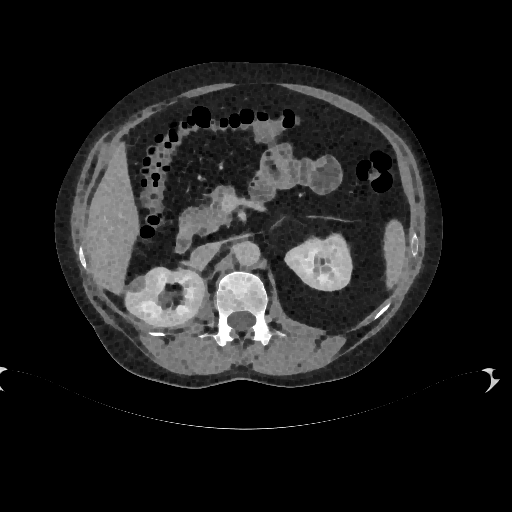Lesion: (126, 276, 148, 293)
